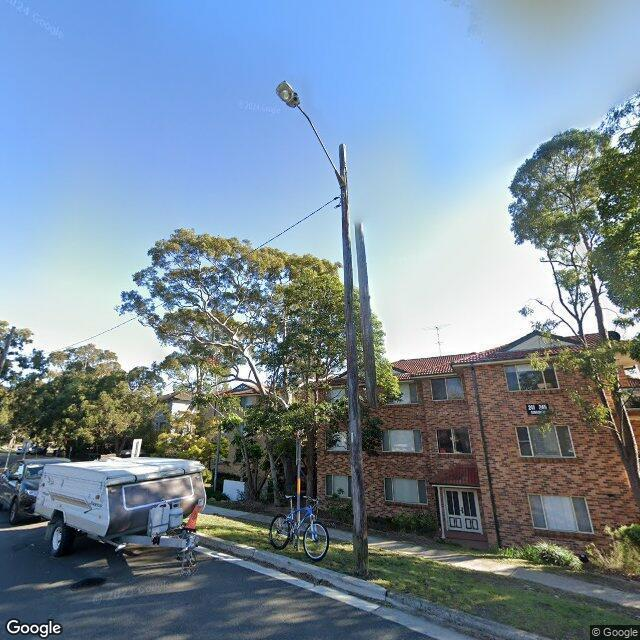streetlight: (276, 79, 346, 186)
timber-pole: (339, 143, 379, 580)
